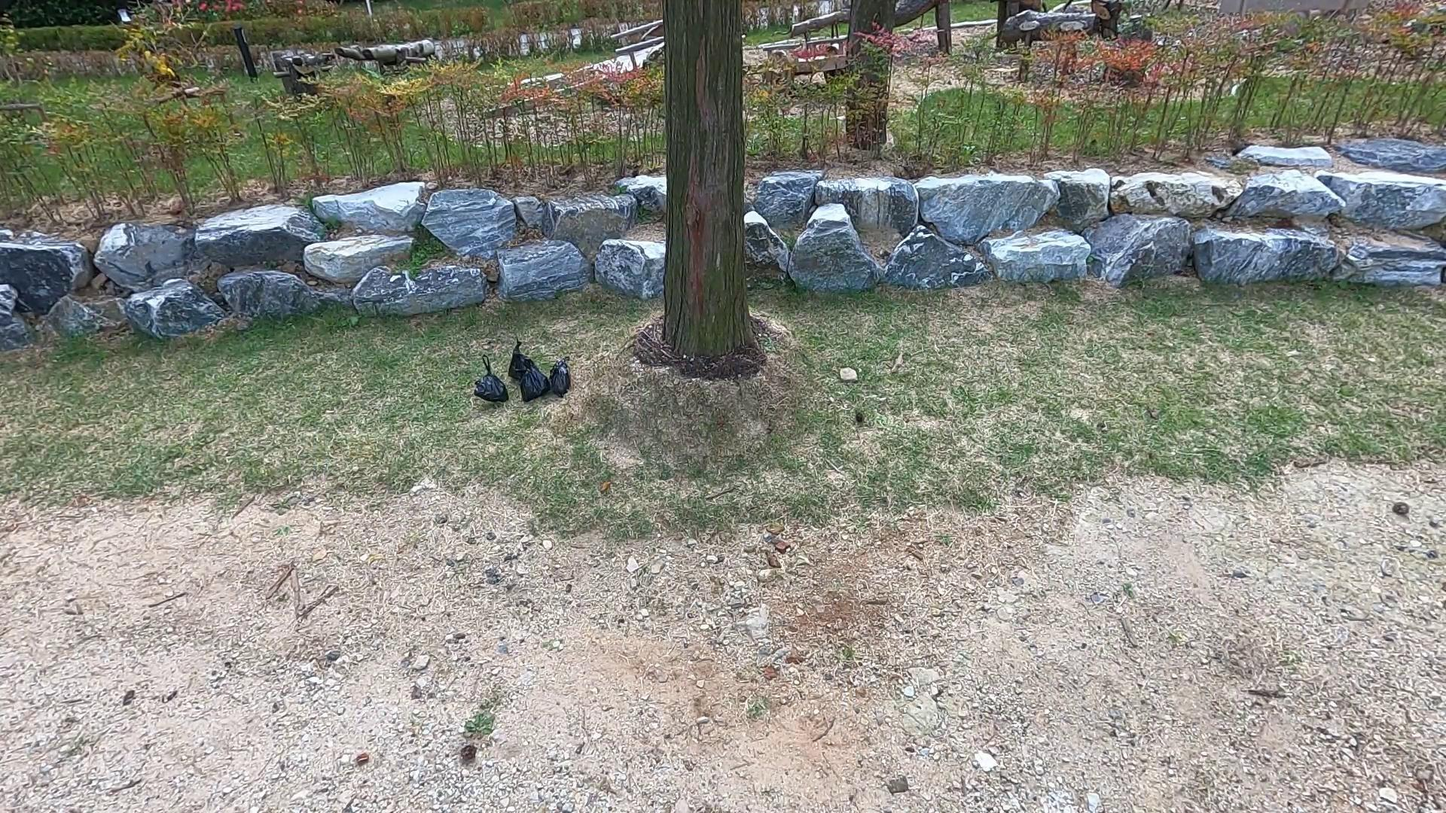trash: (472, 354, 510, 404), (505, 339, 540, 384), (519, 359, 548, 401), (545, 356, 576, 393)
